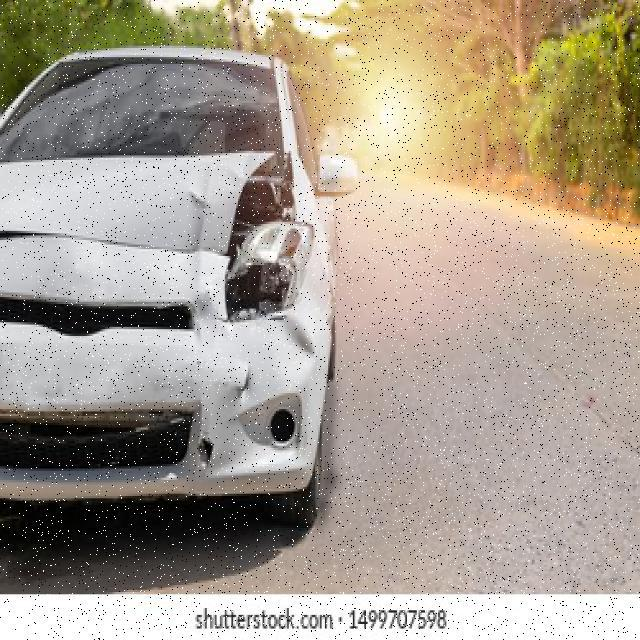Headlight-Damage: (227, 165, 304, 338)
bonnet-dent: (0, 140, 264, 291)
front-bumper-dent: (0, 311, 320, 503)
